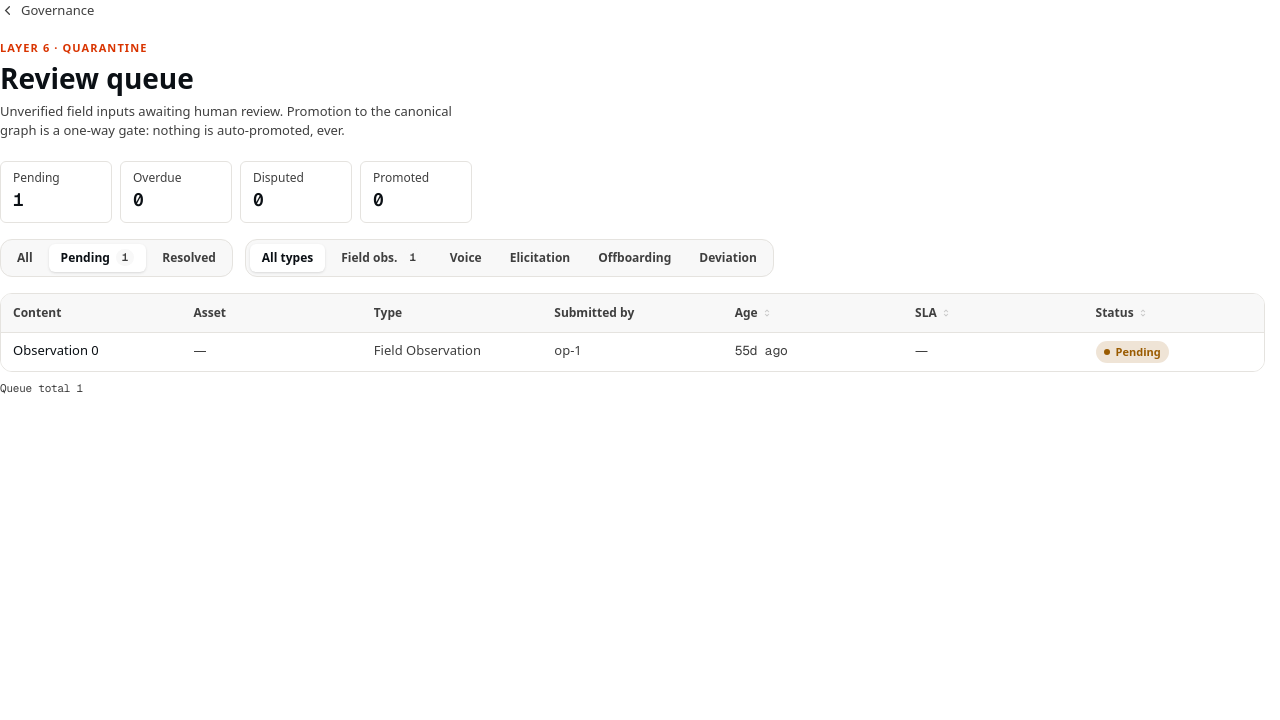
Scenario: QuarantinePage › opens the item panel on row click and closes it on Escape
Click the text "Observation 0": (56, 350) left=13, top=340, right=99, bottom=358
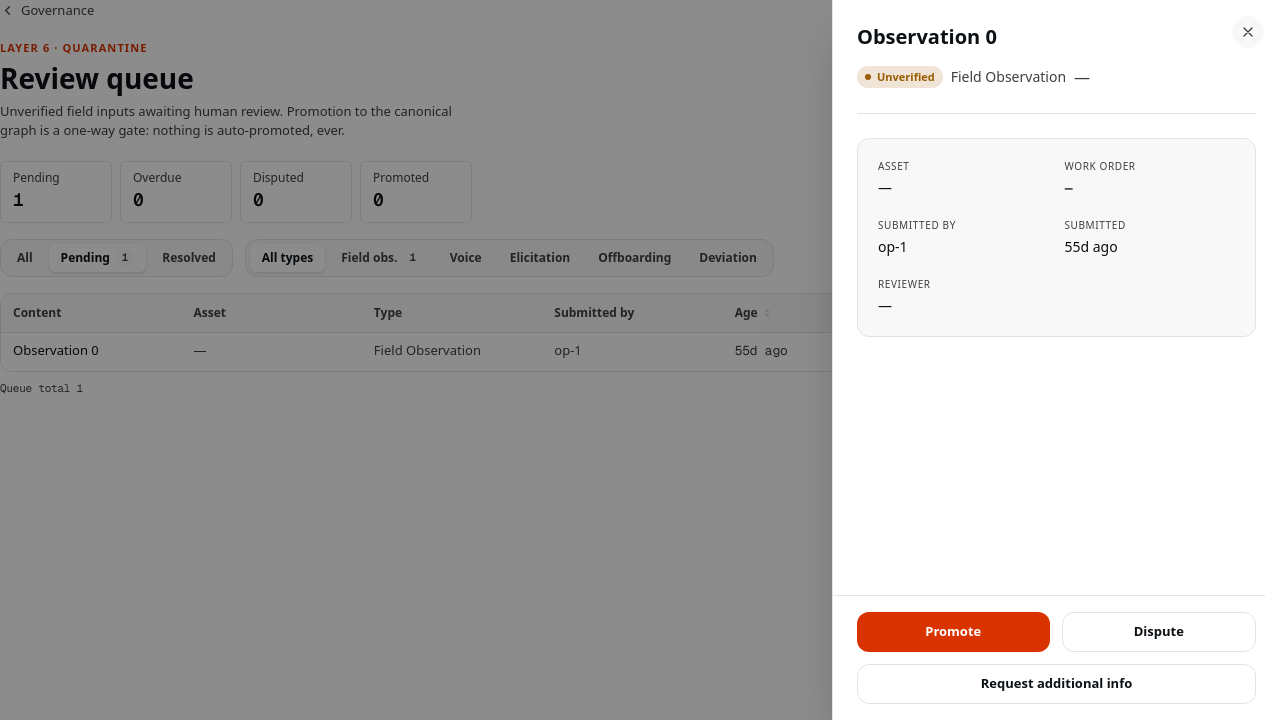
Result: the element with test id "quarantine-panel" is shown at left=832, top=0, right=1279, bottom=719
Press Escape
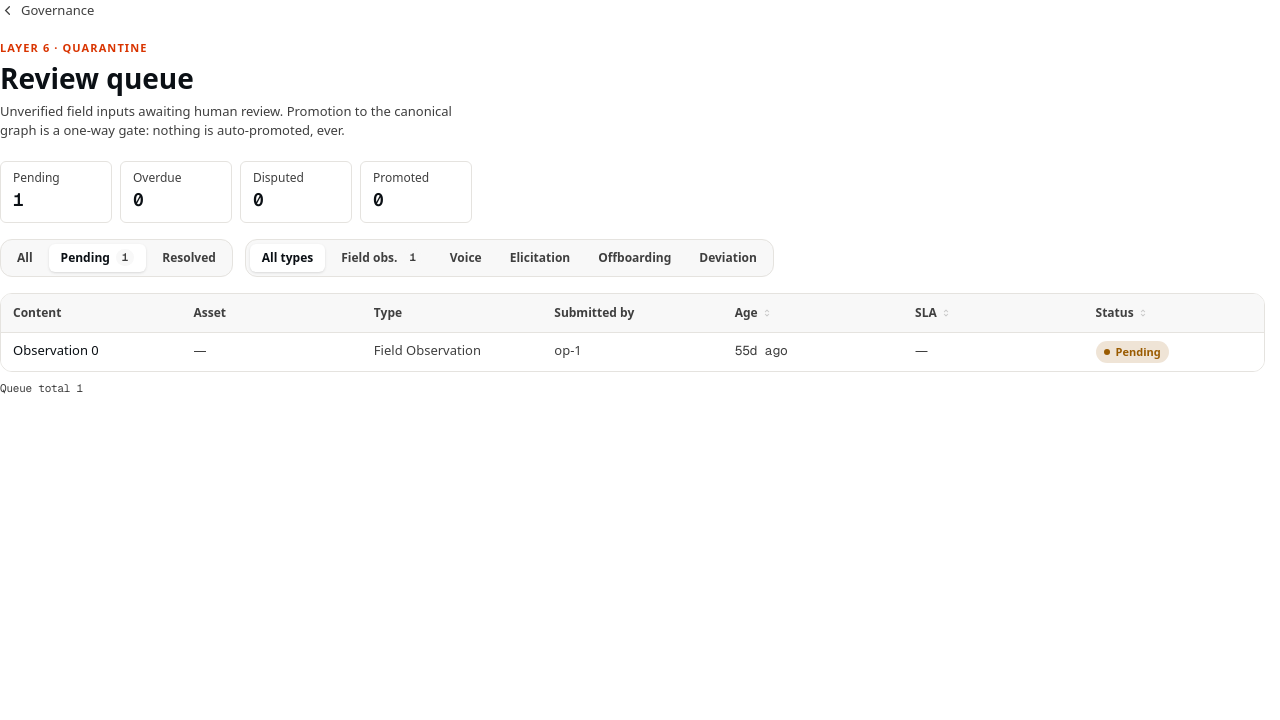
Result: the element with test id "quarantine-panel" is gone
